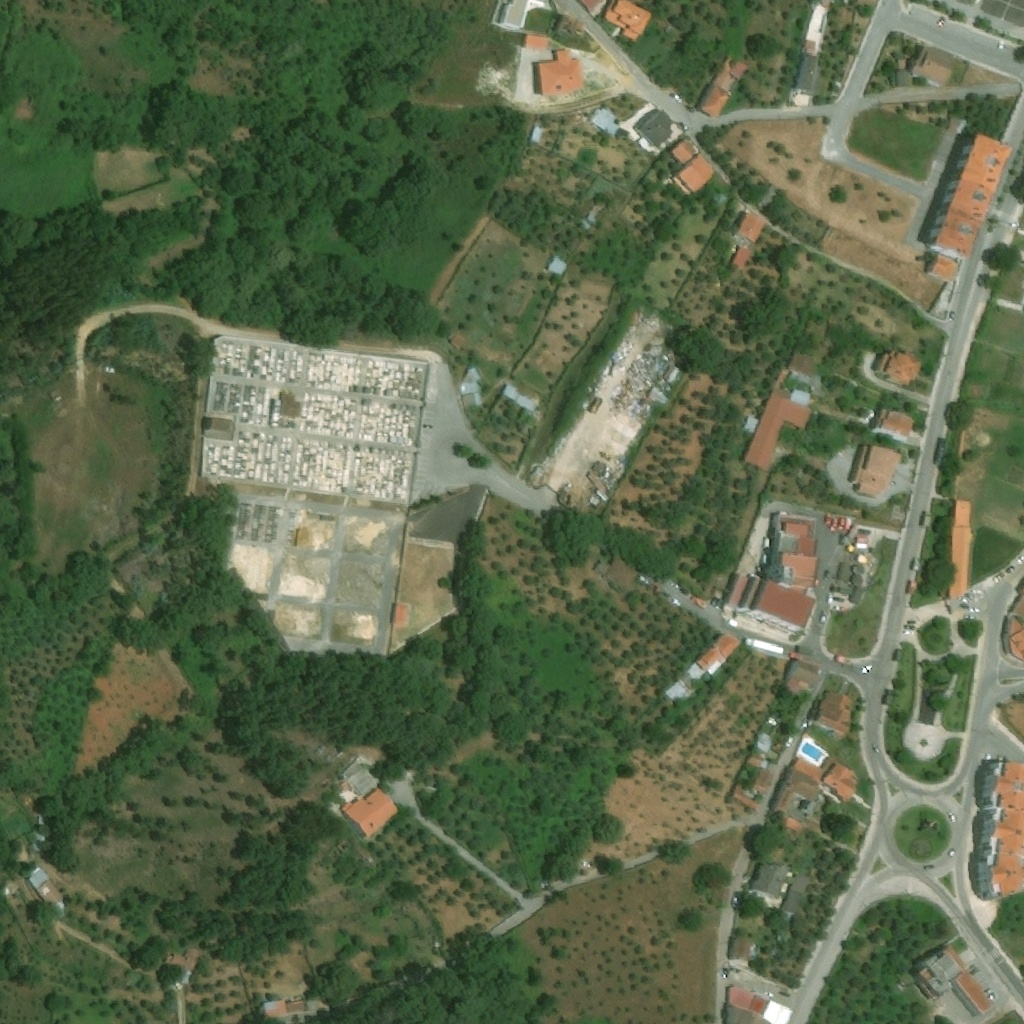0 no-damage: (924, 129, 1013, 263), (745, 389, 814, 471), (918, 944, 994, 1018), (977, 809, 1023, 902), (767, 514, 820, 591), (749, 581, 818, 629), (341, 787, 400, 837), (850, 444, 902, 498), (945, 500, 972, 603), (602, 0, 655, 41), (981, 763, 1023, 813), (539, 50, 584, 96), (750, 861, 792, 910), (24, 866, 66, 913), (873, 349, 924, 386), (817, 691, 856, 736), (633, 106, 673, 149), (501, 383, 545, 421), (911, 49, 955, 86), (822, 761, 859, 805), (677, 153, 715, 194), (873, 408, 914, 444), (783, 656, 821, 693), (784, 768, 822, 804), (780, 872, 810, 916), (786, 350, 820, 384), (699, 85, 730, 119), (795, 55, 819, 96), (460, 365, 480, 412), (928, 253, 958, 284), (589, 108, 621, 137), (726, 1004, 773, 1023), (738, 212, 765, 244), (722, 574, 748, 607), (697, 647, 727, 675), (162, 949, 198, 972), (713, 632, 742, 659), (793, 757, 824, 782), (750, 767, 776, 796), (762, 999, 793, 1023), (277, 991, 305, 1017), (726, 984, 754, 1009), (740, 578, 762, 608), (754, 732, 779, 758), (279, 390, 302, 418), (671, 140, 696, 165), (727, 936, 752, 960), (545, 254, 568, 279), (202, 418, 234, 435), (731, 246, 752, 271), (14, 837, 30, 863), (783, 818, 806, 834), (730, 63, 748, 80), (749, 997, 766, 1015), (527, 36, 548, 50), (447, 335, 464, 351), (529, 127, 545, 142), (895, 70, 907, 87)
4 un-classified: (499, 0, 547, 30), (1009, 618, 1023, 661), (938, 0, 977, 12), (582, 0, 610, 14), (1012, 596, 1023, 618)
